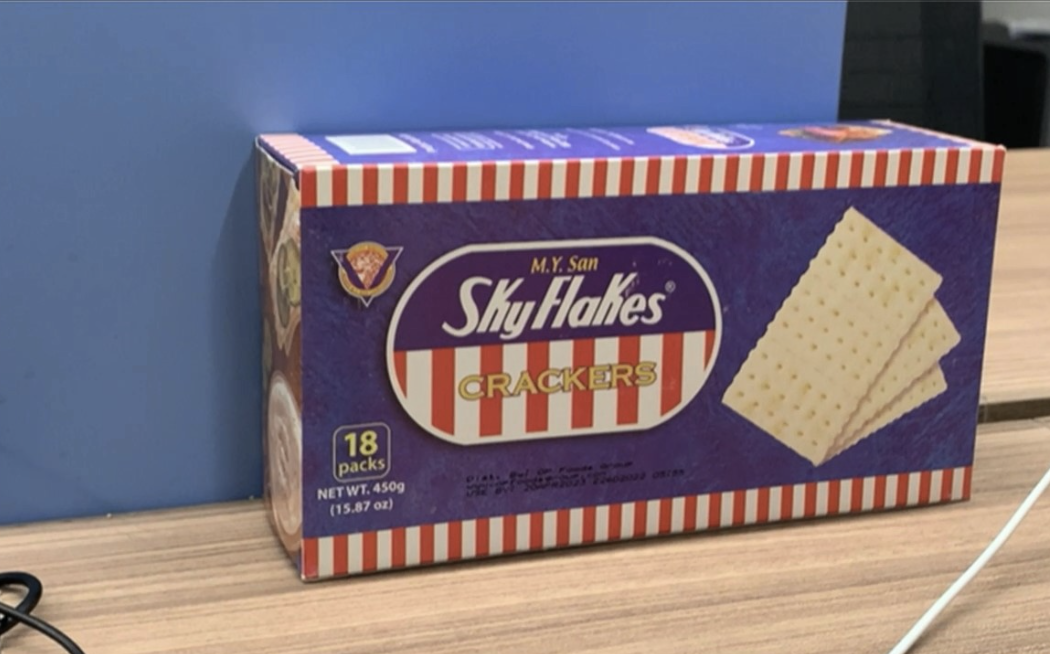crackers_400g-499g: (320, 179, 966, 520)
